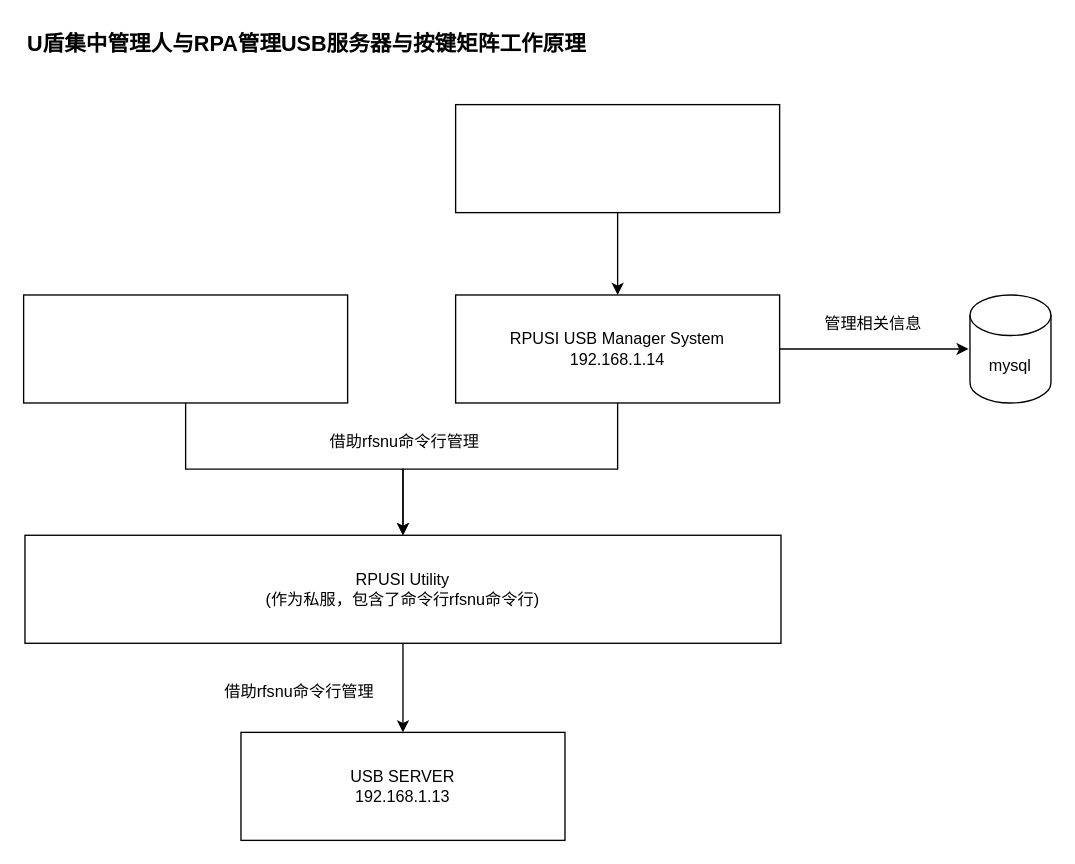
The diagram is 1075 pixels wide and 864 high, and some of its shapes have lost their labels. Here are the shapes that lost their labels. From the top down, the centre of each, then its label:
At point 617,158: "RPUSI Utility Client 192.168.1.x".
At point 185,348: "i-Search RPA".
